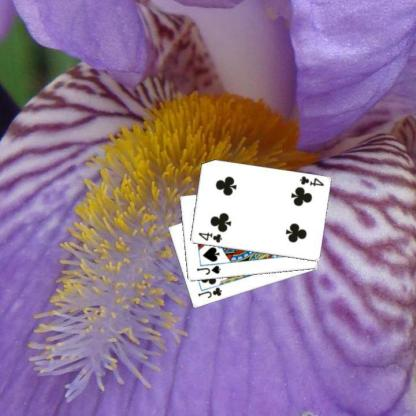4C: (297, 174, 325, 188), (196, 230, 223, 244)
JC: (195, 285, 223, 300)
JS: (194, 264, 222, 276)
